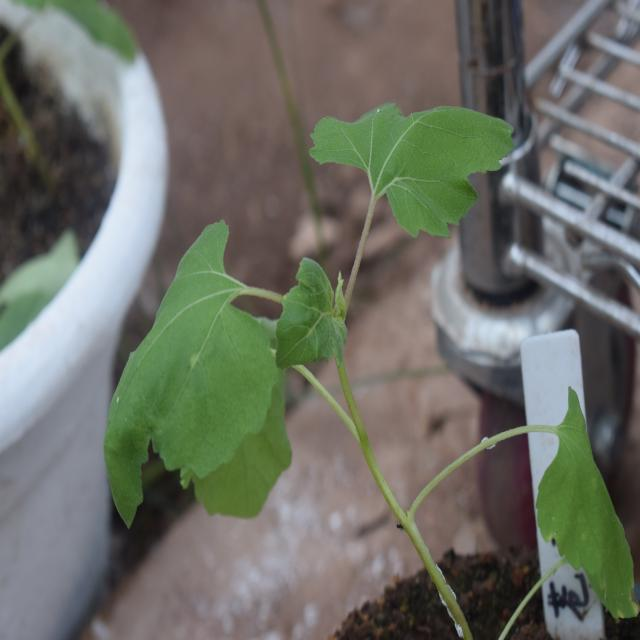cocklebur: (105, 102, 633, 578)
